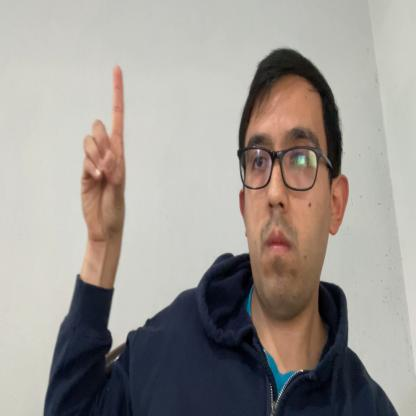D: (80, 64, 126, 248)
